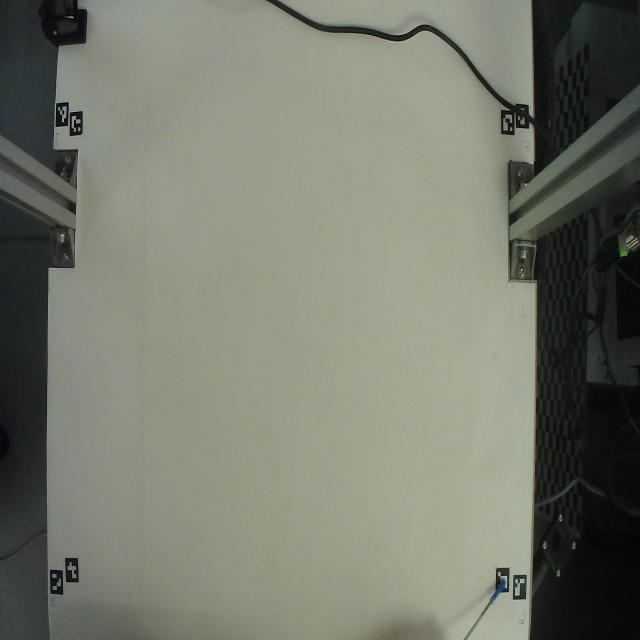Pres: (448, 561, 515, 640)
